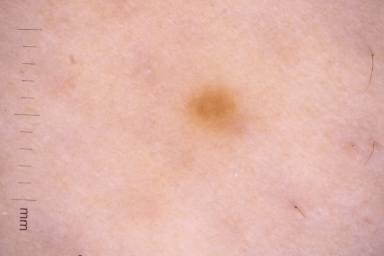nevus: (183, 86, 255, 137)
